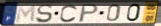0: (105, 3, 122, 23), (126, 3, 142, 23)
C: (59, 4, 80, 23)
M: (15, 4, 37, 24)
P: (77, 4, 100, 24)
S: (35, 4, 54, 24)
